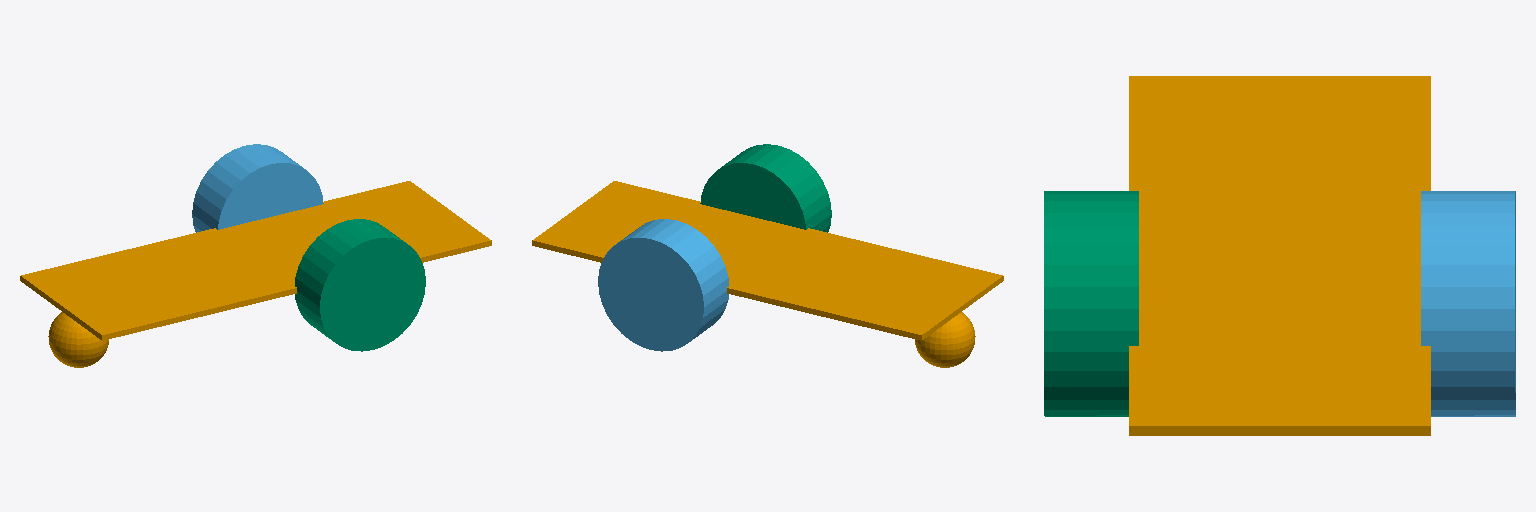
The robot description file, URDF, robot "gopigo":
<?xml version="1.0" ?>
<!-- =================================================================================== -->
<!-- |    This document was autogenerated by xacro from gopigo.xacro                   | -->
<!-- |    EDITING THIS FILE BY HAND IS NOT RECOMMENDED                                 | -->
<!-- =================================================================================== -->
<robot name="gopigo" xmlns:xacro="http://www.ros.org/wiki/xacro">
  <link name="base_link">
    <pose>0 0 0.1 0 0 0</pose>
    <inertial>
      <mass value="15.0"/>
      <origin rpy=" 0 0 0" xyz="0 0 0.036"/>
      <inertia ixx="0.1" ixy="0" ixz="0" iyy="0.1" iyz="0" izz="0.1"/>
    </inertial>
    <collision name="collision">
      <origin rpy=" 0 0 0" xyz="0 0 0.036"/>
      <geometry>
        <box size=".22 .08 .003"/>
      </geometry>
    </collision>
    <visual name="base_link_visual">
      <origin rpy=" 0 0 0" xyz="0 0 0.036"/>
      <geometry>
        <box size=".22 .08 .003"/>
      </geometry>
    </visual>
    <collision name="caster_collision">
      <origin rpy=" 0 0 0" xyz="-0.1 0 0.018"/>
      <geometry>
        <sphere radius="0.015"/>
      </geometry>
      <surface>
        <friction>
          <ode>
            <mu>0</mu>
            <mu2>0</mu2>
            <slip1>1.0</slip1>
            <slip2>1.0</slip2>
          </ode>
        </friction>
      </surface>
    </collision>
    <visual name="caster_visual">
      <origin rpy=" 0 0 0" xyz="-0.1 0 0.018"/>
      <geometry>
        <sphere radius="0.015"/>
      </geometry>
    </visual>
  </link>
  <link name="left_wheel">
    <!--origin xyz="0.1 0.13 0.1" rpy="0 1.5707 1.5707"/-->
    <collision name="collision">
      <origin rpy="0 1.5707 1.5707" xyz="0 0 0"/>
      <geometry>
        <cylinder length="0.025" radius="0.03"/>
      </geometry>
    </collision>
    <visual name="left_wheel_visual">
      <origin rpy="0 1.5707 1.5707" xyz="0 0 0"/>
      <geometry>
        <cylinder length="0.025" radius="0.03"/>
      </geometry>
    </visual>
    <inertial>
      <origin rpy="0 1.5707 1.5707" xyz="0 0 0"/>
      <mass value="5"/>
      <inertia ixx=".1" ixy="0.0" ixz="0.0" iyy=".1" iyz="0.0" izz=".1"/>
    </inertial>
  </link>
  <link name="right_wheel">
    <!--origin xyz="0.1 -0.13 0.1" rpy="0 1.5707 1.5707"/-->
    <collision name="collision">
      <origin rpy="0 1.5707 1.5707" xyz="0 0 0"/>
      <geometry>
        <cylinder length="0.025" radius="0.03"/>
      </geometry>
    </collision>
    <visual name="right_wheel_visual">
      <origin rpy="0 1.5707 1.5707" xyz="0 0 0"/>
      <geometry>
        <cylinder length="0.025" radius="0.03"/>
      </geometry>
    </visual>
    <inertial>
      <origin rpy="0 1.5707 1.5707" xyz="0 0 0"/>
      <mass value="5"/>
      <inertia ixx=".1" ixy="0.0" ixz="0.0" iyy=".1" iyz="0.0" izz=".1"/>
    </inertial>
  </link>
  <joint name="left_wheel_hinge" type="continuous">
    <origin rpy="0 0 0" xyz="0.03 0.05 0.036"/>
    <!--origin xyz="0.1 0.13 0" rpy="0 1.5707 1.5707"/-->
    <child link="left_wheel"/>
    <parent link="base_link"/>
    <axis rpy="0 0 0" xyz="0 1 0"/>
    <limit effort="10000" velocity="1000"/>
    <joint_properties damping="1.0" friction="1.0"/>
  </joint>
  <joint name="right_wheel_hinge" type="continuous">
    <origin rpy="0 0 0" xyz="0.03 -0.05 0.036"/>
    <!--origin xyz="0.1 -0.13 0" rpy="0 1.5707 1.5707"/-->
    <child link="right_wheel"/>
    <parent link="base_link"/>
    <axis rpy="0 0 0" xyz="0 1 0"/>
    <limit effort="10000" velocity="1000"/>
    <joint_properties damping="1.0" friction="1.0"/>
  </joint>
</robot>

--- Render facts (derived) ---
3 views of the same robot in one strip: view 1: azimuth 30°, elevation 25°; view 2: azimuth 150°, elevation 25°; view 3: azimuth 270°, elevation 25° (orthographic).
Robot: gopigo — 3 links, 2 joints (2 continuous); root link base_link; default pose: all joints at 0.
Visible links, largest first — view 1: base_link, right_wheel, left_wheel; view 2: base_link, left_wheel, right_wheel; view 3: base_link, left_wheel, right_wheel.
Boxes of the visible links, bbox=[...] form: base_link: bbox=[20, 181, 491, 367]; right_wheel: bbox=[295, 219, 425, 351]; left_wheel: bbox=[192, 144, 323, 232]; base_link: bbox=[532, 181, 1003, 367]; left_wheel: bbox=[598, 219, 728, 351]; right_wheel: bbox=[700, 144, 831, 232]; base_link: bbox=[1129, 76, 1430, 435]; left_wheel: bbox=[1421, 191, 1515, 416]; right_wheel: bbox=[1044, 191, 1138, 416].
Size in the robot's own frame: 0.225 by 0.125 by 0.063 metres.
Geometry: primitives only (box / cylinder / sphere), no mesh files.